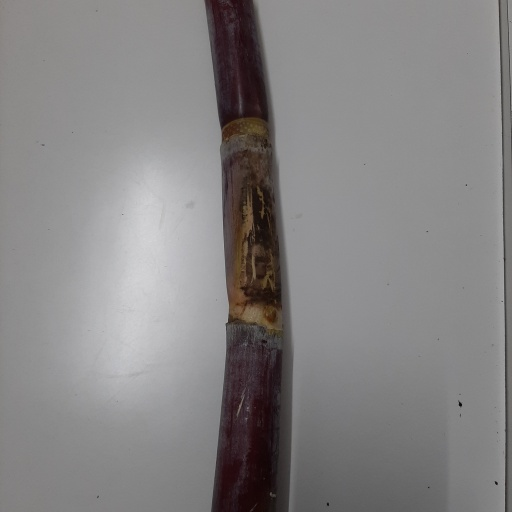Bud: (263, 303, 279, 326)
